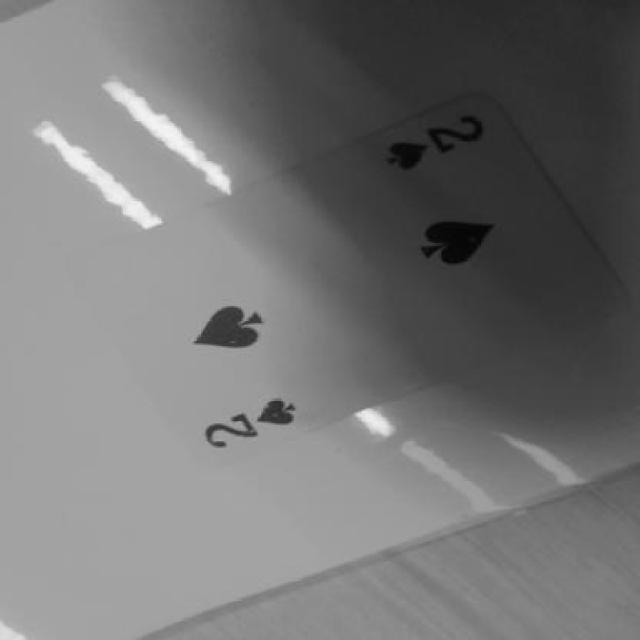2S: (350, 99, 524, 184), (168, 380, 323, 458)
